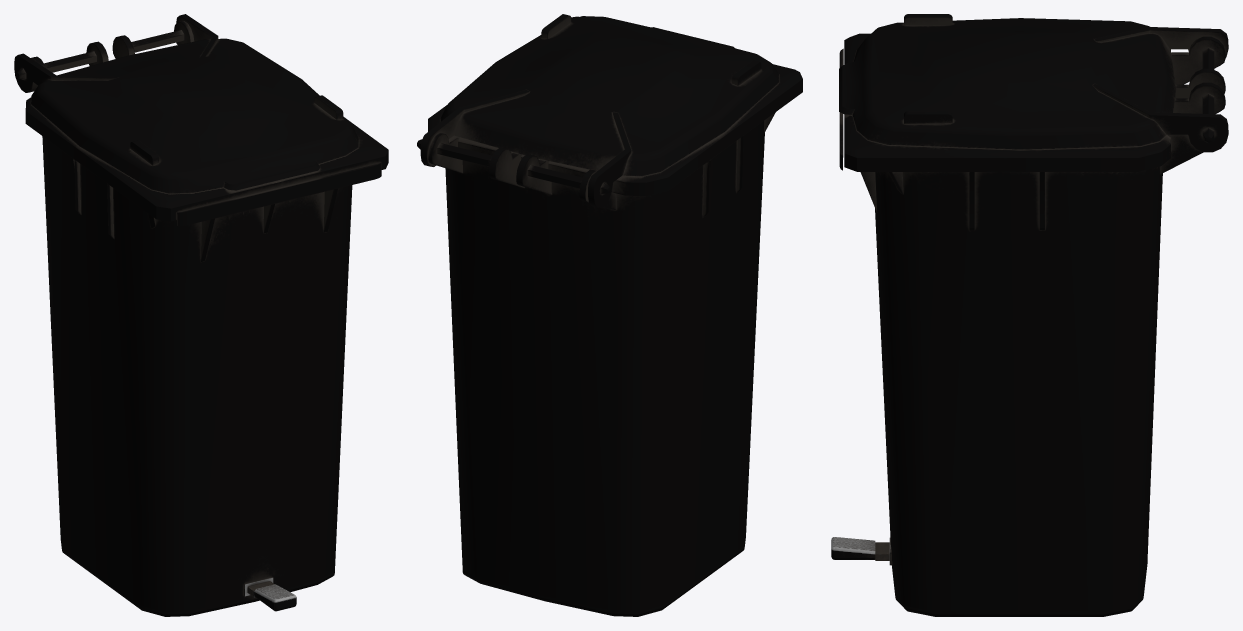
The picture shows the model from 3 angles, left to right: view 1: azimuth 30°, elevation 25°; view 2: azimuth 150°, elevation 25°; view 3: azimuth 270°, elevation 25°; orthographic projection. The views are drawn at different scales.
Parts seen in each view (by area): view 1: 01__0; view 2: 01__0; view 3: 01__0.
Boxes of the visible parts, x1=… form: 01__0: x1=14, y1=14, x2=388, y2=616; 01__0: x1=417, y1=14, x2=802, y2=616; 01__0: x1=831, y1=14, x2=1228, y2=616.
Size of the model in its own units: 0.4075 by 0.7874 by 0.5573.
Materials: 1 (1 with a texture image).
